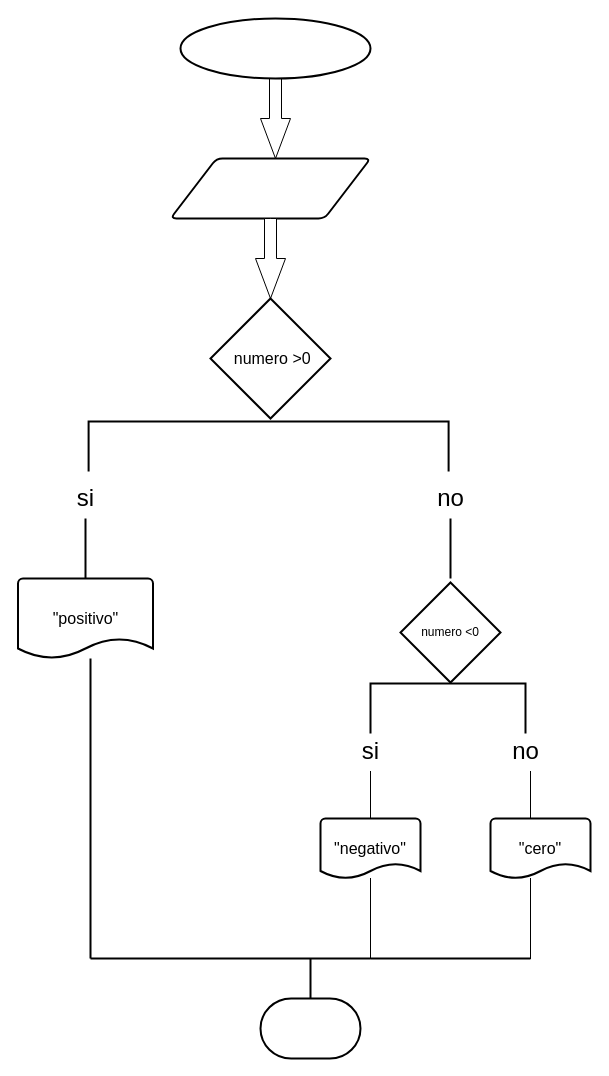
Image size: 609x1076. Some labels were removed from this diagram. The centre of each missing label's shape, as x and y in pixels:
"Fin" belongs at [310,1028].
"INICIO" belongs at [275,48].
"leer numero" belongs at [270,188].
